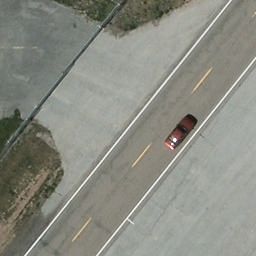car: (161, 112, 198, 151)
